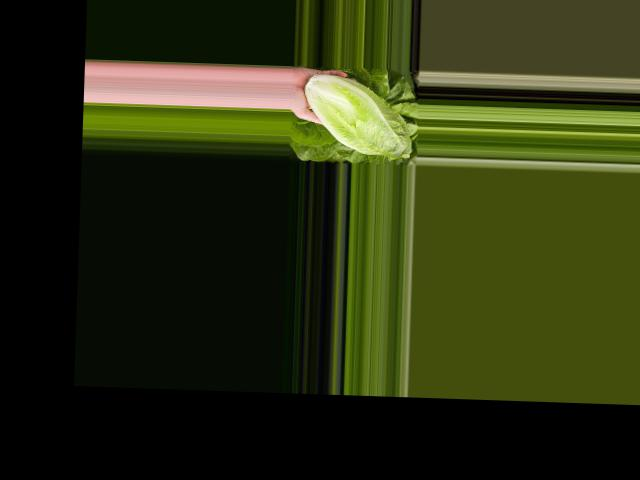lettuce: (301, 70, 414, 159)
